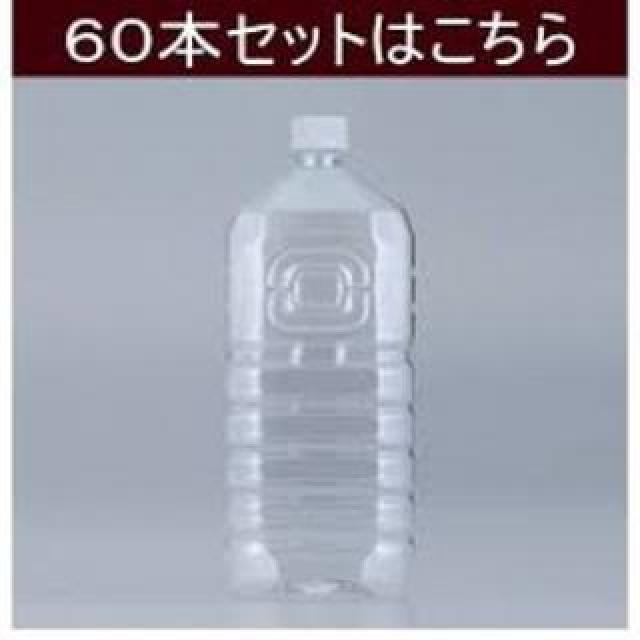Pet_Bottle: (218, 109, 422, 603)
